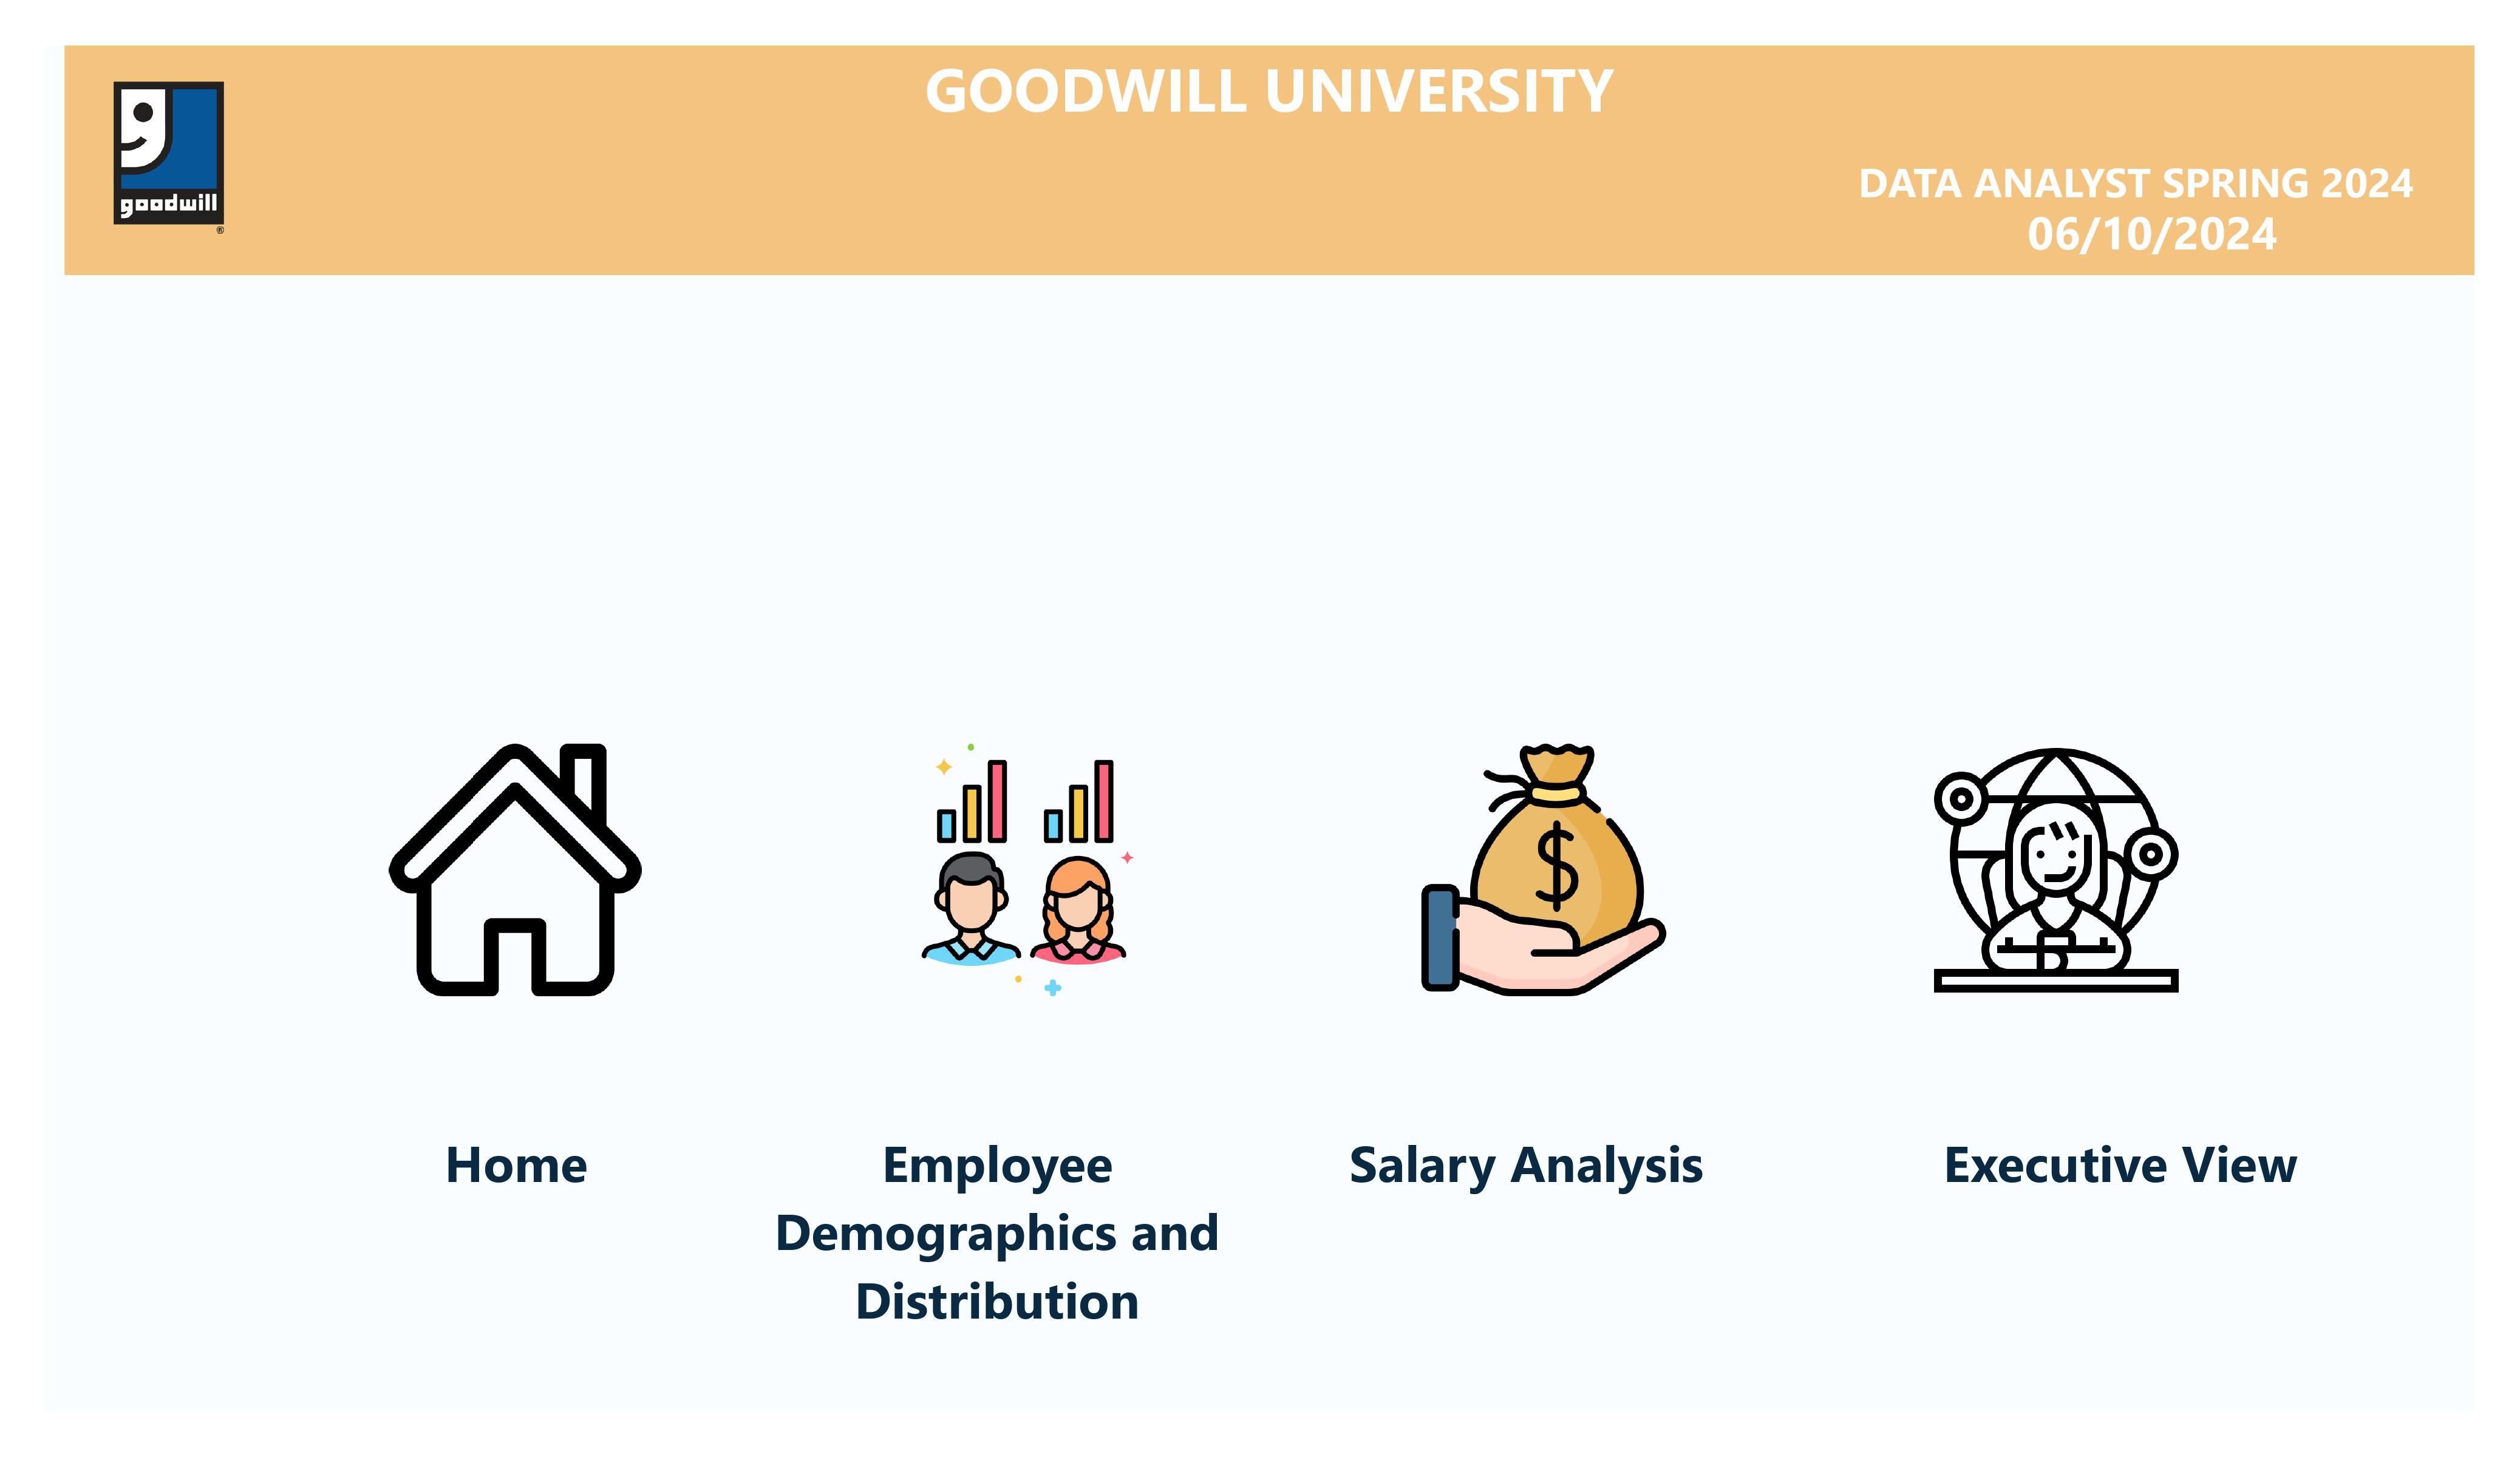

What the dashboard file says about the page in this screenshot:
{"tool":"powerbi","page":{"name":"Home","canvas":[1280,720],"ordinal":0},"visuals":[{"type":"textbox","box":[10.2,0,1269.6,120.8],"z":0},{"type":"image","box":[25.5,0,78.3,120.8],"z":1000},{"type":"card","fields":{"Values":["Key Measures.FormattedTodayDate"]},"box":[1028.5,78.4,163.6,42.6],"z":2000},{"type":"image","box":[166.8,360.8,161.7,149.8],"z":3000},{"type":"image","box":[420.9,360.8,188.9,149.8],"z":4000},{"type":"image","box":[702.3,360.8,173.6,149.8],"z":5000},{"type":"image","box":[968.4,360.8,182.1,149.8],"z":6000},{"type":"textbox","box":[144.7,570.1,205.9,127.6],"z":7000},{"type":"textbox","box":[366.5,570.1,270.6,114],"z":8000},{"type":"textbox","box":[653,570.1,255.3,127.6],"z":9000},{"type":"textbox","box":[924.1,570.1,338.7,114],"z":10000}]}

Visuals, with their boxes in screenshot pixels (x1, y1, x2, y2):
textbox: <bbox>65, 46, 2474, 274</bbox>
image: <bbox>94, 46, 242, 274</bbox>
card - Key Measures.FormattedTodayDate: <bbox>1997, 194, 2307, 275</bbox>
image: <bbox>362, 730, 669, 1014</bbox>
image: <bbox>844, 730, 1203, 1014</bbox>
image: <bbox>1378, 730, 1708, 1014</bbox>
image: <bbox>1883, 730, 2229, 1014</bbox>
textbox: <bbox>320, 1127, 711, 1369</bbox>
textbox: <bbox>741, 1127, 1255, 1343</bbox>
textbox: <bbox>1285, 1127, 1769, 1369</bbox>
textbox: <bbox>1799, 1127, 2442, 1343</bbox>
